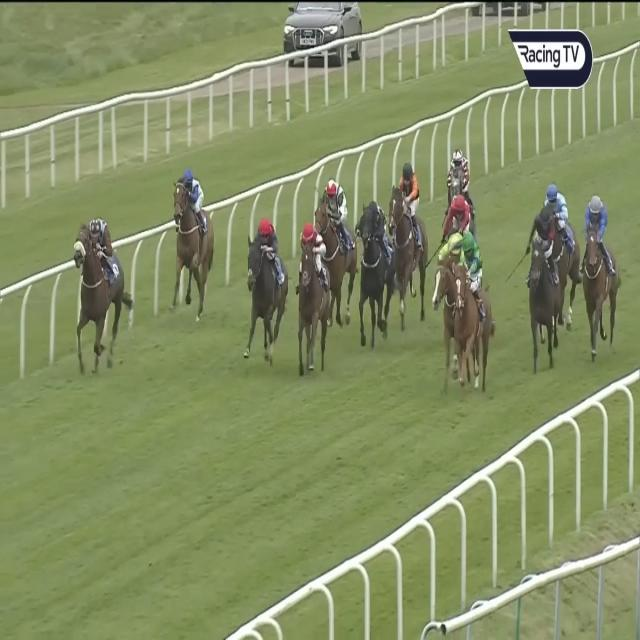horses-racing: (75, 218, 126, 364), (394, 163, 428, 325), (249, 216, 285, 365), (316, 177, 356, 310), (177, 166, 212, 312), (525, 206, 560, 348), (296, 222, 328, 376), (458, 230, 487, 394), (584, 194, 613, 352), (360, 194, 390, 341), (543, 180, 582, 276), (438, 230, 466, 328), (446, 145, 478, 201), (446, 192, 476, 235)
